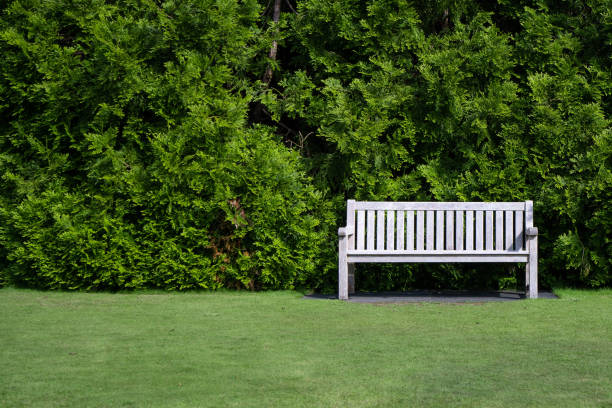bench: (332, 191, 541, 305)
